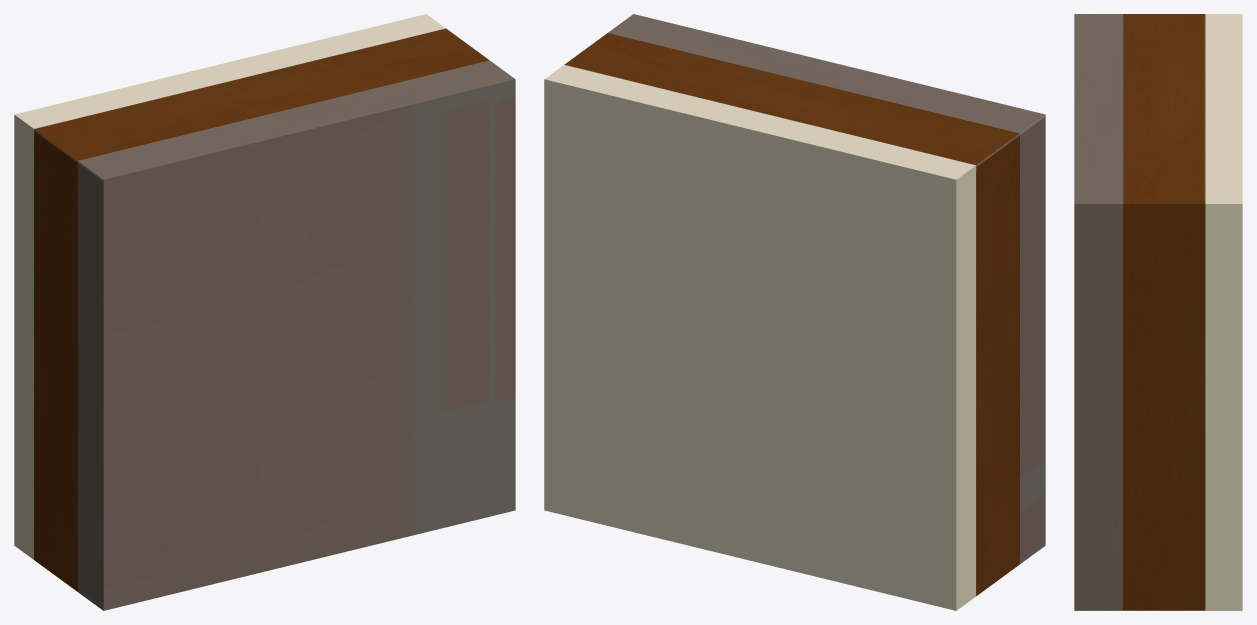
The model's file is block-ground.fbx.
3 renders of one model, left to right at view 1: azimuth 30°, elevation 25°; view 2: azimuth 150°, elevation 25°; view 3: azimuth 270°, elevation 25°, orthographic. The views are drawn at different scales.
Parts seen in each view (by area): view 1: block-ground; view 2: block-ground; view 3: block-ground.
Boxes of the visible parts, bbox=[...] form: block-ground: bbox=[14, 14, 515, 610]; block-ground: bbox=[544, 14, 1045, 610]; block-ground: bbox=[1074, 14, 1242, 610].
Size of the model in its own units: 40 by 40 by 15.
